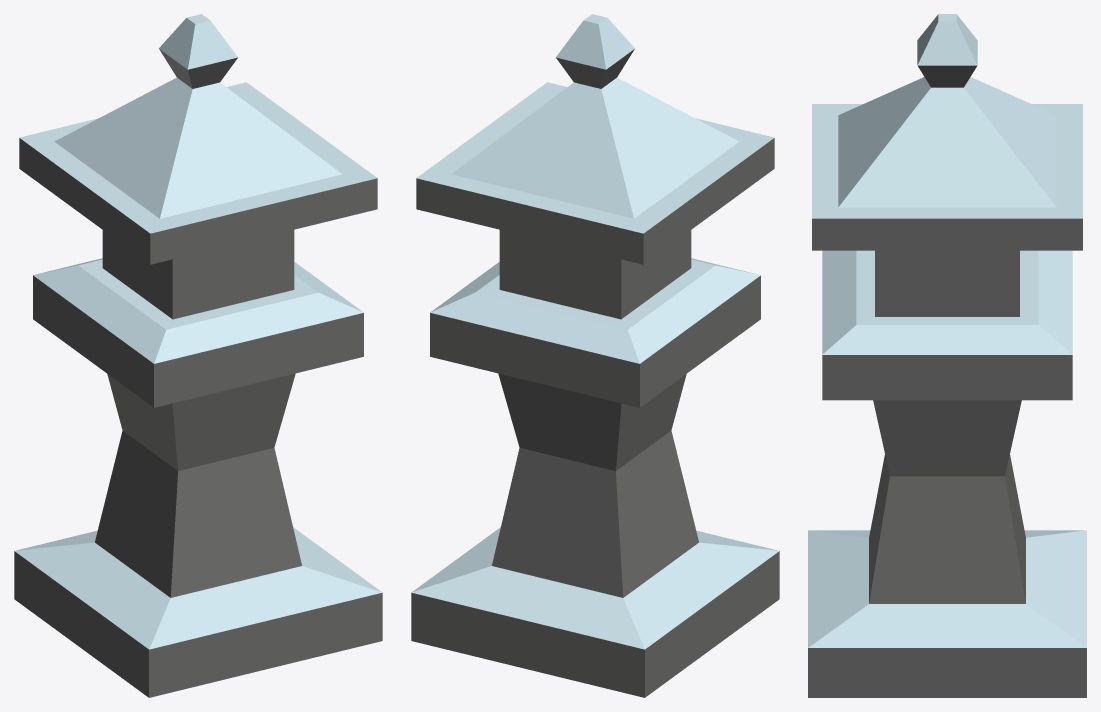
The model's file is SM_Prop_Samurai_Shrine_01_Snow.fbx.
The picture shows the model from 3 angles, left to right: view 1: azimuth 30°, elevation 25°; view 2: azimuth 150°, elevation 25°; view 3: azimuth 270°, elevation 25°; orthographic projection. The views are drawn at different scales.
Visible parts, largest first — view 1: SM_Prop_Samurai_Shrine_01_Snow; view 2: SM_Prop_Samurai_Shrine_01_Snow; view 3: SM_Prop_Samurai_Shrine_01_Snow.
Part boxes in pixels (left/top/right/bottom): SM_Prop_Samurai_Shrine_01_Snow: left=14, top=14, right=382, bottom=697; SM_Prop_Samurai_Shrine_01_Snow: left=411, top=14, right=779, bottom=697; SM_Prop_Samurai_Shrine_01_Snow: left=808, top=14, right=1086, bottom=697.
Bounding box in the file's own units: 24.78 × 60.91 × 24.78.
Materials: 1 (1 with a texture image).
